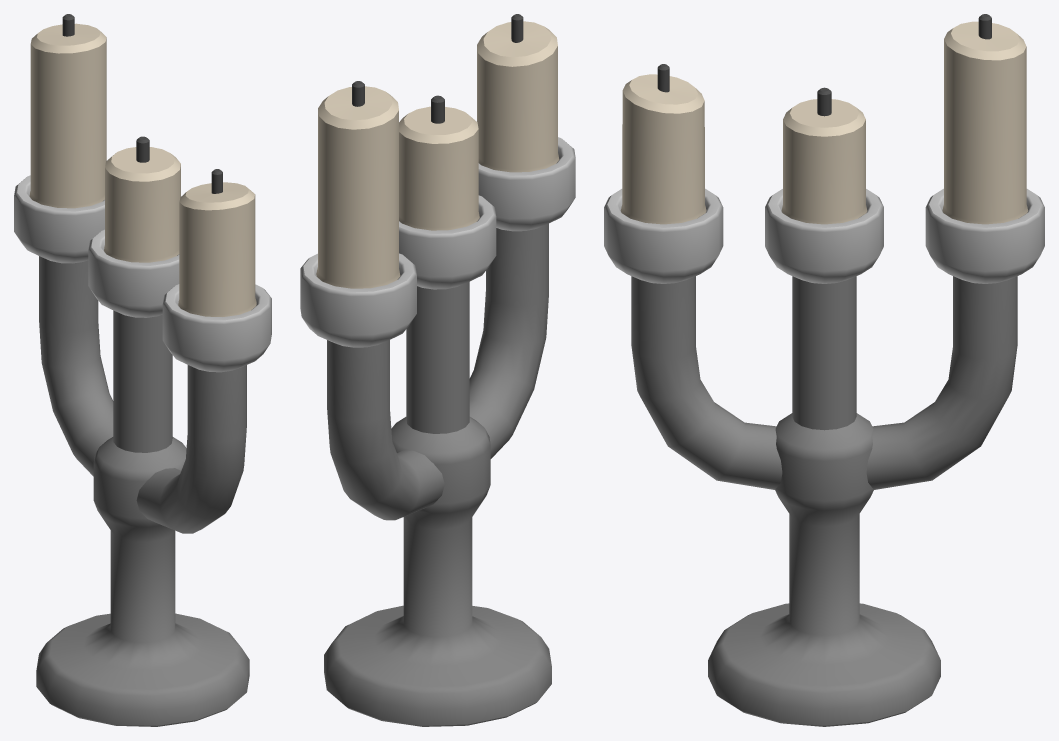
Rendered from Chandalier_01.fbx.
3 renders of one model, left to right at view 1: azimuth 30°, elevation 25°; view 2: azimuth 150°, elevation 25°; view 3: azimuth 270°, elevation 25°, orthographic. The views are drawn at different scales.
Visible parts, largest first — view 1: Chandalier; view 2: Chandalier; view 3: Chandalier.
Part boxes in pixels (left/top/right/bottom): Chandalier: left=14, top=14, right=271, bottom=726; Chandalier: left=300, top=14, right=575, bottom=726; Chandalier: left=604, top=14, right=1044, bottom=726.
Size of the model in its own units: 12.24 by 38.43 by 23.15.
